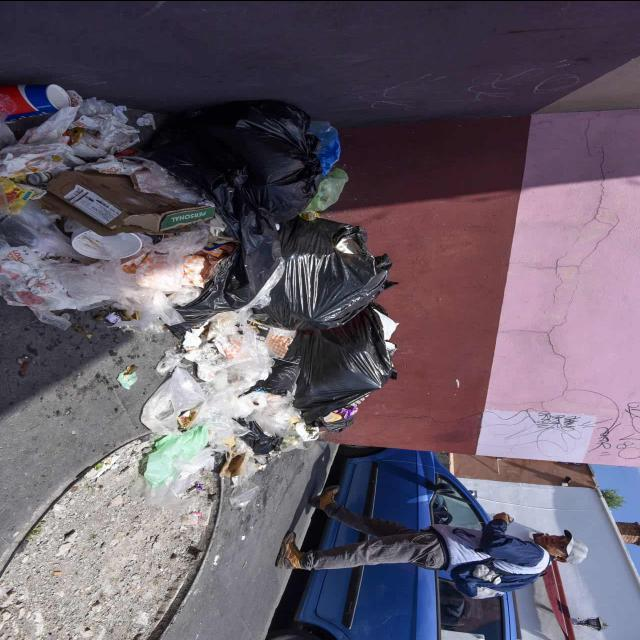Trashbag: (138, 97, 326, 229), (234, 216, 395, 333), (264, 301, 404, 425)
